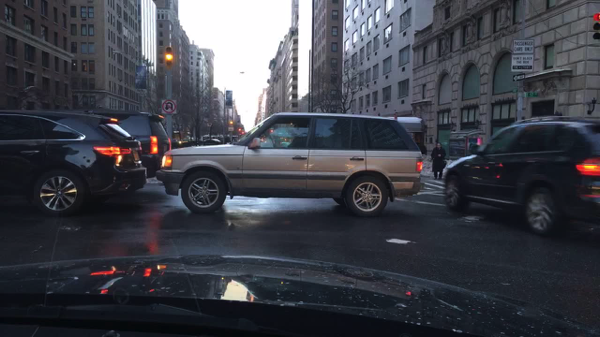car: (155, 113, 423, 219), (443, 118, 599, 238), (0, 109, 148, 218), (94, 112, 171, 179), (203, 137, 221, 146)
person: (430, 142, 445, 181), (415, 136, 428, 158)
traffic light: (164, 46, 172, 69), (593, 10, 599, 40), (236, 127, 242, 133), (240, 131, 245, 135)
traffic sign: (511, 55, 534, 72), (510, 41, 534, 55), (162, 98, 176, 114), (525, 91, 538, 100), (511, 74, 526, 81), (511, 88, 524, 95), (228, 126, 235, 132)
